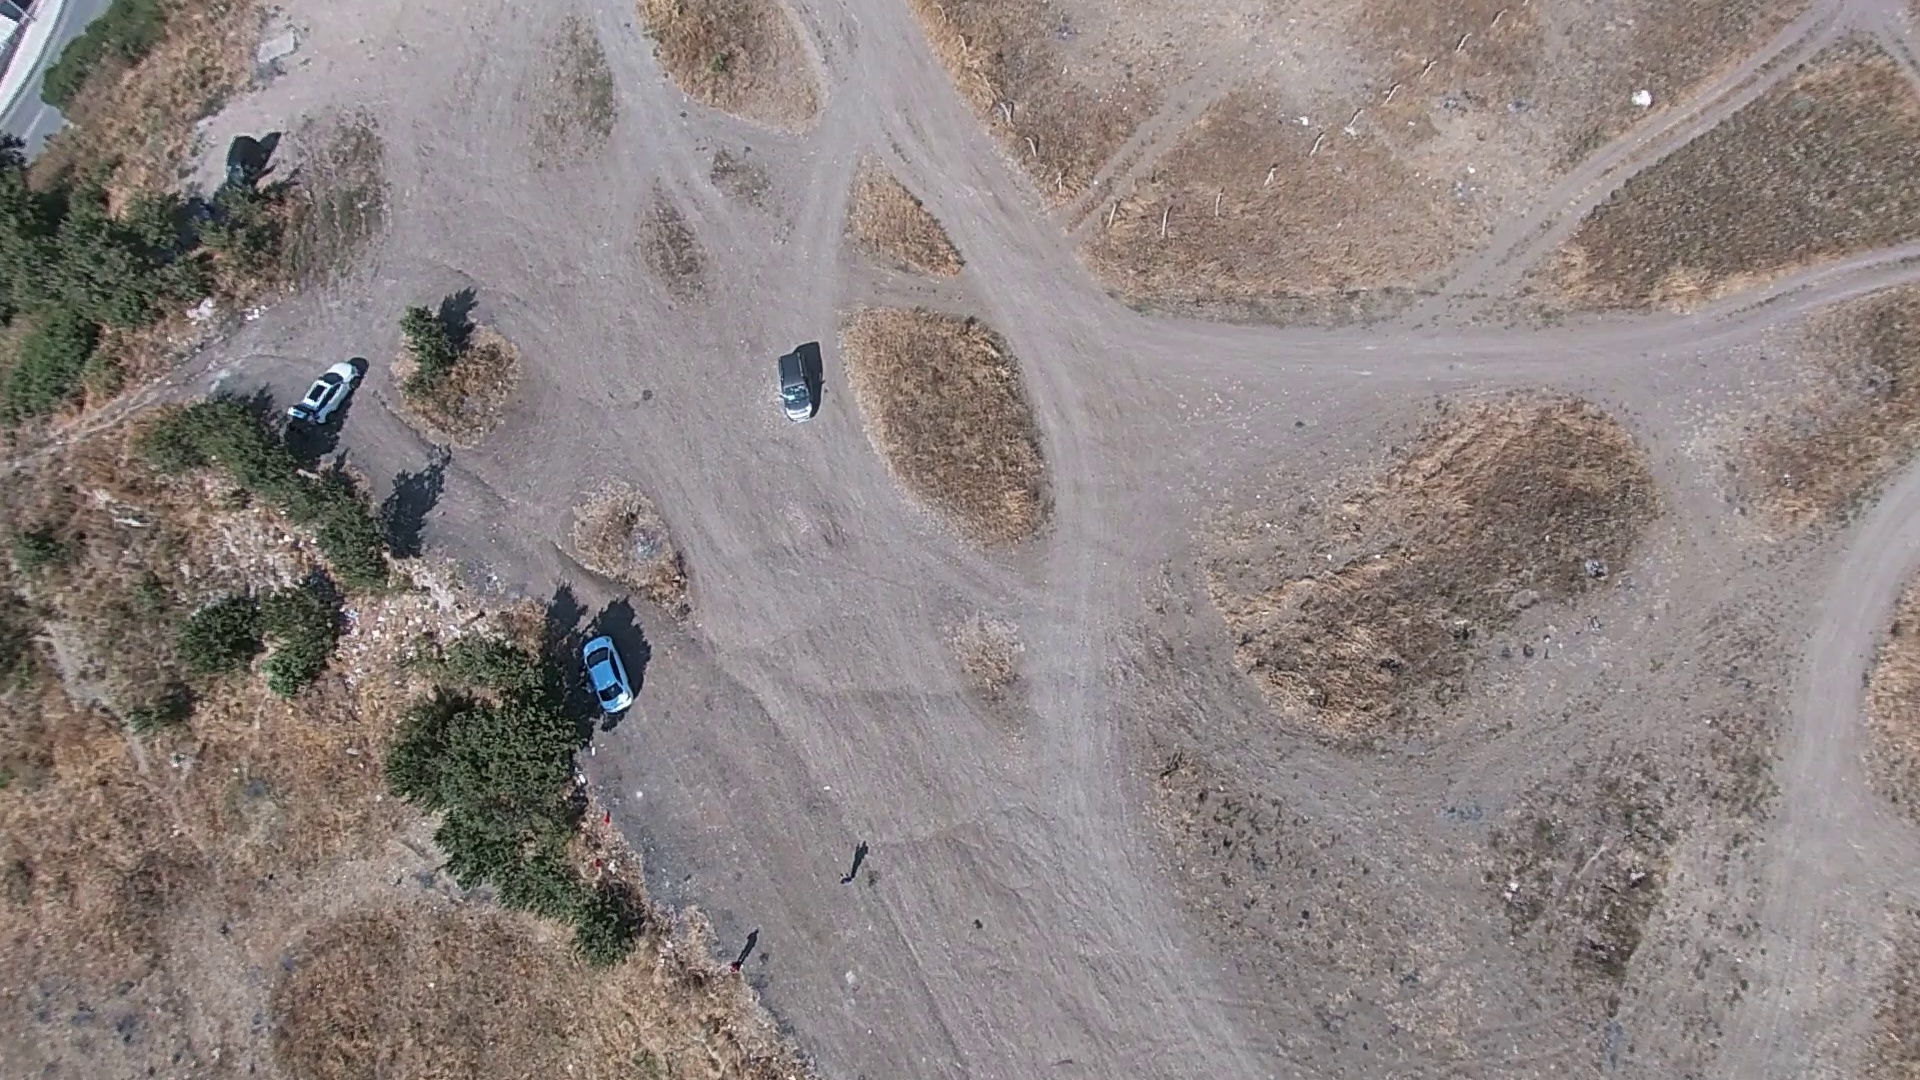arac: (284, 354, 363, 427), (576, 632, 634, 719), (769, 348, 817, 419)
insan: (840, 845, 864, 887), (717, 955, 750, 979)
